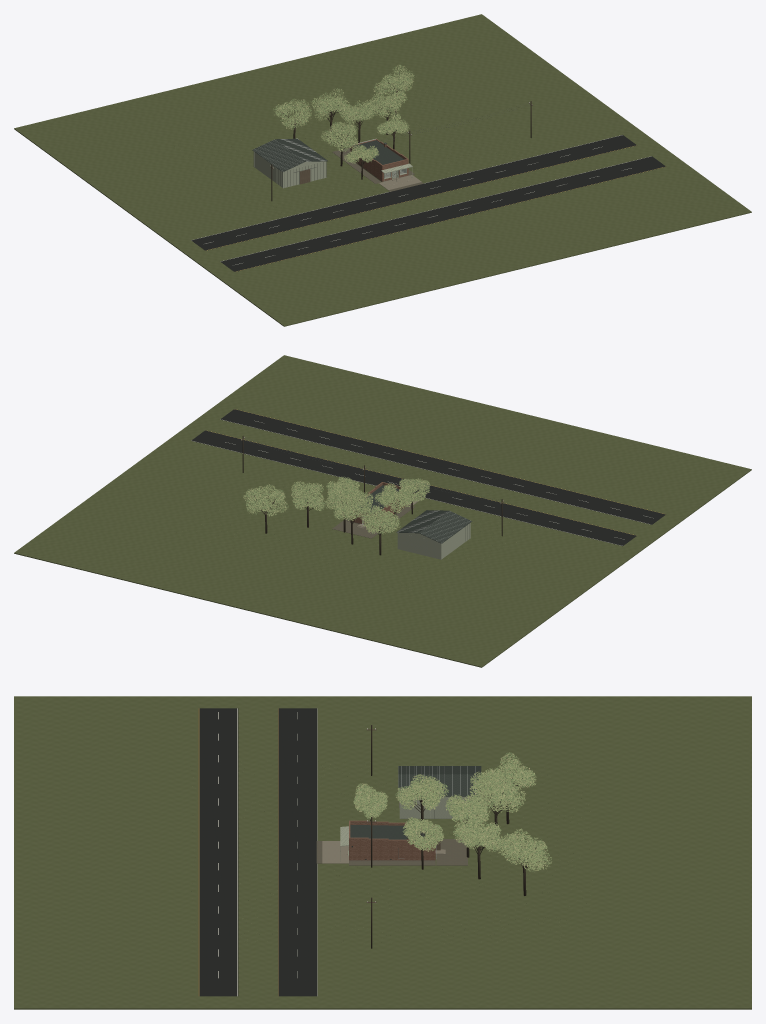
The model's file is complete.glb.
3 renders of one model, top to bottom at view 1: azimuth 30°, elevation 25°; view 2: azimuth 150°, elevation 25°; view 3: azimuth 270°, elevation 25°, orthographic. The views are drawn at different scales.
Visible parts, largest first — view 1: Static_M3_grass, Static_M3_asphalt, Static_M3_leaf1, Static_M3_leaf0, Static_M3_leaf2, Static_M3_roof, Static_M3_trim, Static_M3_bark, Static_M3_road_white, Static_M3_brick, Static_M3_road_yellow, Static_M3_leaf3; view 2: Static_M3_grass, Static_M3_asphalt, Static_M3_leaf1, Static_M3_leaf0, Static_M3_leaf2, Static_M3_roof, Static_M3_trim, Static_M3_road_white, Static_M3_bark, Static_M3_leaf3, Static_M3_road_yellow; view 3: Static_M3_grass, Static_M3_asphalt, Static_M3_leaf1, Static_M3_leaf0, Static_M3_leaf2, Static_M3_roof, Static_M3_brick, Static_M3_gravel, Static_M3_leaf3, Static_M3_bark, Static_M3_trim, Static_M3_road_yellow (+2 smaller).
Part boxes in pixels (left/top/right/bottom): Static_M3_grass: left=14, top=14, right=751, bottom=326; Static_M3_asphalt: left=191, top=135, right=665, bottom=271; Static_M3_leaf1: left=274, top=65, right=414, bottom=163; Static_M3_leaf0: left=273, top=65, right=414, bottom=162; Static_M3_leaf2: left=180, top=65, right=519, bottom=235; Static_M3_roof: left=252, top=138, right=403, bottom=176; Static_M3_trim: left=253, top=139, right=412, bottom=188; Static_M3_bark: left=271, top=72, right=531, bottom=201; Static_M3_road_white: left=191, top=135, right=651, bottom=264; Static_M3_brick: left=350, top=139, right=408, bottom=181; Static_M3_road_yellow: left=207, top=145, right=665, bottom=271; Static_M3_leaf3: left=278, top=66, right=413, bottom=161; Static_M3_grass: left=14, top=355, right=751, bottom=667; Static_M3_asphalt: left=191, top=409, right=665, bottom=546; Static_M3_leaf1: left=243, top=476, right=430, bottom=534; Static_M3_leaf0: left=245, top=477, right=429, bottom=533; Static_M3_leaf2: left=176, top=447, right=546, bottom=598; Static_M3_roof: left=355, top=485, right=471, bottom=543; Static_M3_trim: left=363, top=521, right=470, bottom=559; Static_M3_road_white: left=191, top=419, right=653, bottom=545; Static_M3_bark: left=242, top=436, right=502, bottom=555; Static_M3_leaf3: left=245, top=478, right=429, bottom=532; Static_M3_road_yellow: left=207, top=409, right=665, bottom=535; Static_M3_grass: left=14, top=696, right=751, bottom=1009; Static_M3_asphalt: left=198, top=708, right=317, bottom=996; Static_M3_leaf1: left=354, top=752, right=551, bottom=872; Static_M3_leaf0: left=353, top=752, right=551, bottom=871; Static_M3_leaf2: left=191, top=753, right=592, bottom=943; Static_M3_roof: left=350, top=766, right=481, bottom=859; Static_M3_brick: left=349, top=820, right=435, bottom=860; Static_M3_gravel: left=316, top=839, right=467, bottom=865; Static_M3_leaf3: left=355, top=754, right=551, bottom=867; Static_M3_bark: left=364, top=725, right=539, bottom=948; Static_M3_trim: left=340, top=796, right=472, bottom=860; Static_M3_road_yellow: left=198, top=708, right=278, bottom=995.
Size of the model in its own units: 130 by 13.48 by 130.
32 materials, 13 textured.
